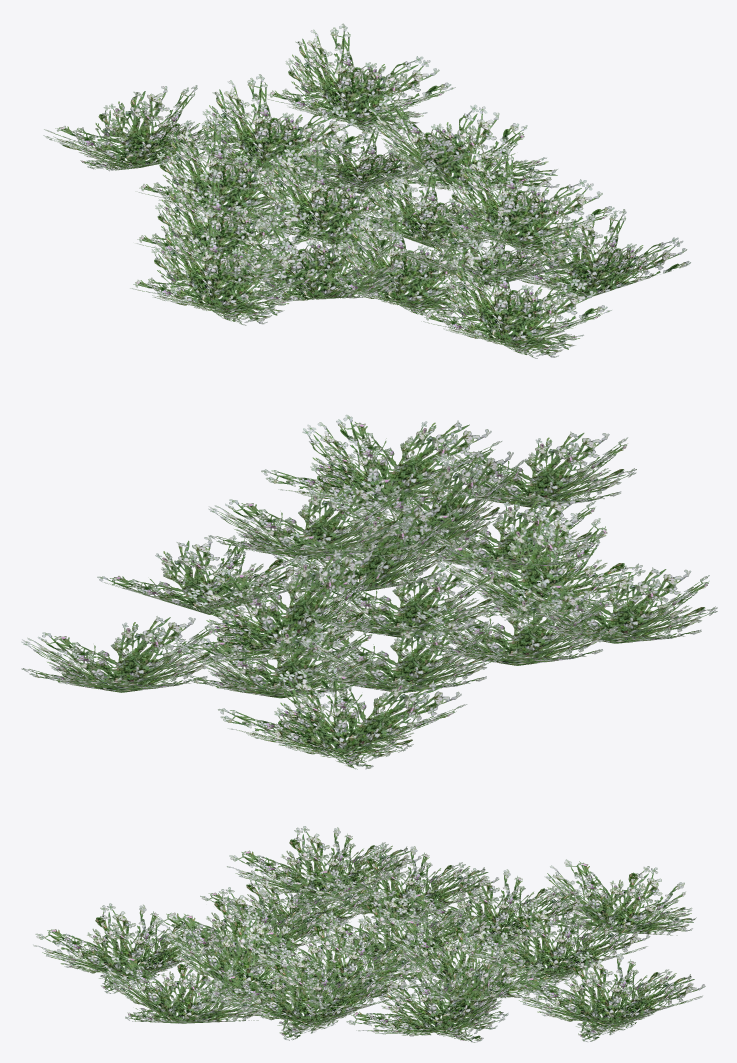
Rendered from ptch_groundflowers_med_l0.fbx.
3 renders of one model, top to bottom at view 1: azimuth 30°, elevation 25°; view 2: azimuth 150°, elevation 25°; view 3: azimuth 270°, elevation 25°, orthographic. The views are drawn at different scales.
Visible parts, largest first — view 1: mesh_node; view 2: mesh_node; view 3: mesh_node.
Boxes of the visible parts, <box> form: mesh_node: <box>43,23,690,358</box>; mesh_node: <box>21,414,717,769</box>; mesh_node: <box>33,826,705,1042</box>.
Size of the model in its own units: 1.64 by 0.213 by 2.15.
1 material, 1 textured.
